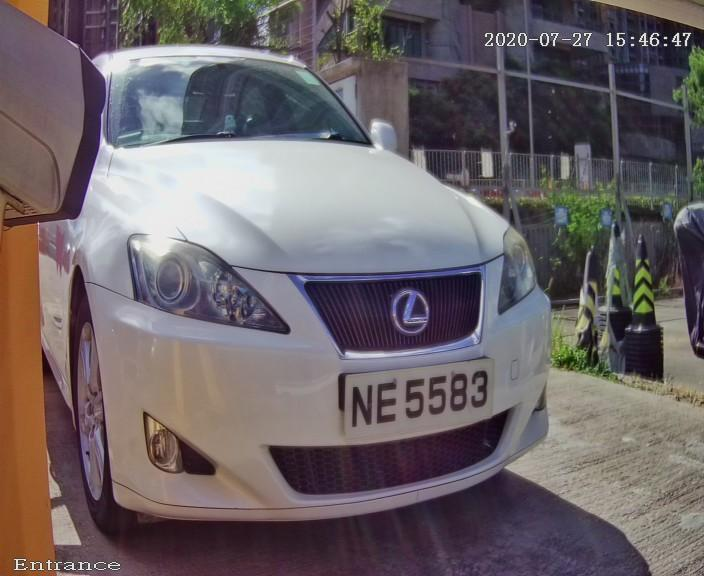privatecar: (57, 19, 566, 541)
